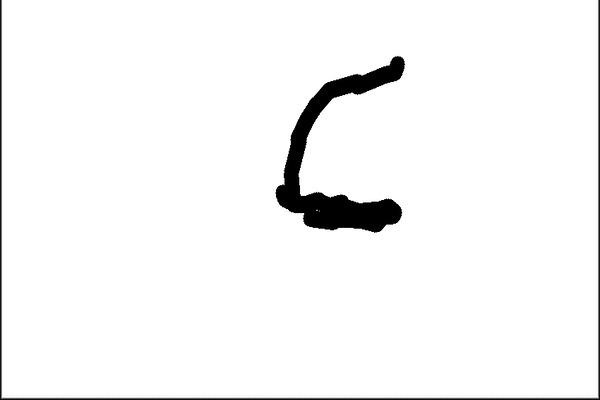C: (271, 47, 415, 234)
